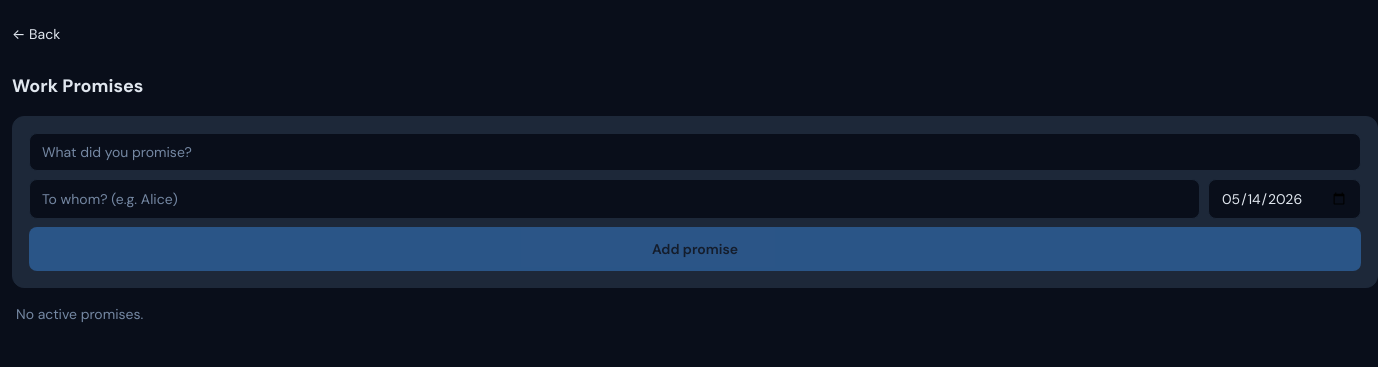
PromisesList › shows error when addPromise fails
Type "Reply to Bob" into the field with placeholder "What did you promise?" at (695, 152), box [29, 133, 1361, 171]
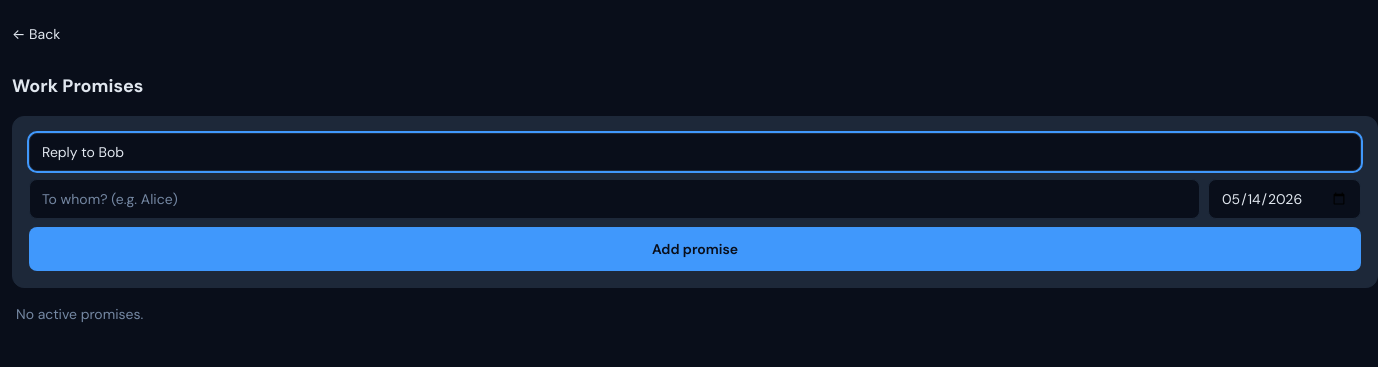
Click the button "Add promise" at (695, 249), box [29, 227, 1361, 271]
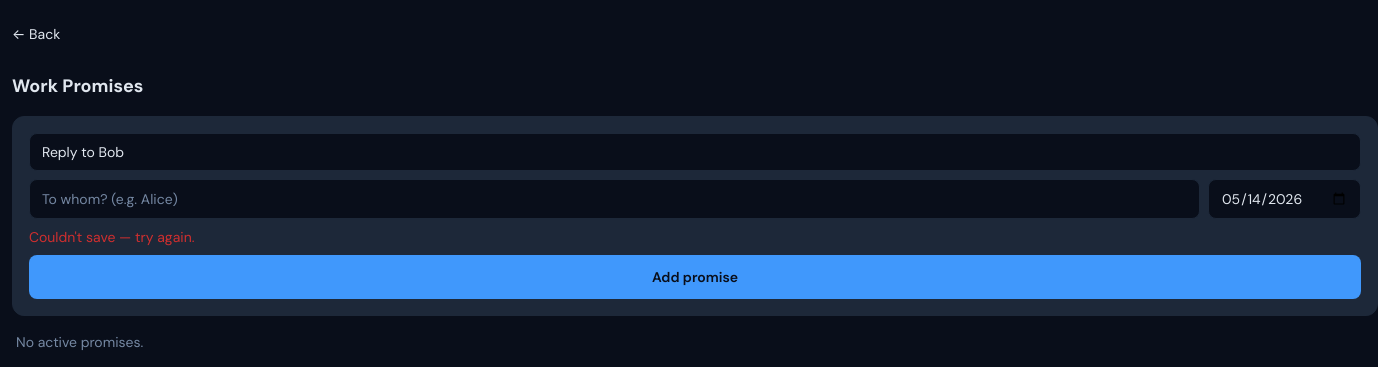
Now the text "Couldn't save — try again." is shown, box [29, 228, 194, 246]
